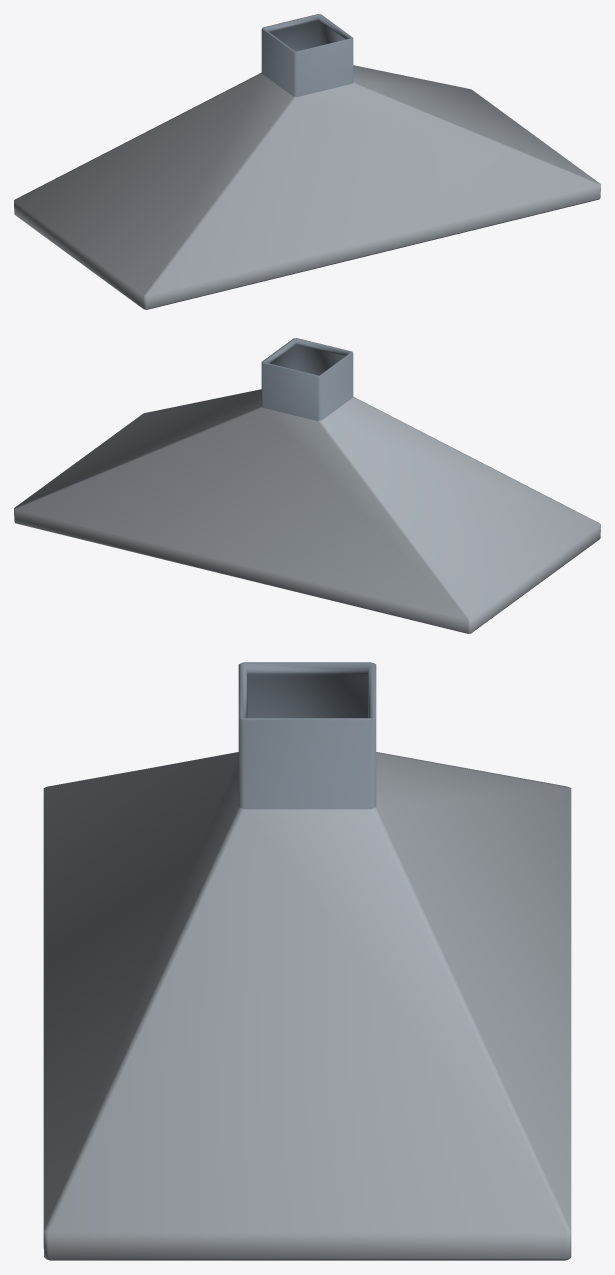
Rendered from PaddleBox-2.fbx.
3 views of the same model, one above another, from view 1: azimuth 30°, elevation 25°; view 2: azimuth 150°, elevation 25°; view 3: azimuth 270°, elevation 25° (orthographic). The views are drawn at different scales.
Parts seen in each view (by area): view 1: Paddle-Box-2; view 2: Paddle-Box-2; view 3: Paddle-Box-2.
Part boxes in pixels (x1=…): Paddle-Box-2: x1=14, y1=14, x2=600, y2=309; Paddle-Box-2: x1=14, y1=338, x2=600, y2=633; Paddle-Box-2: x1=43, y1=662, x2=571, y2=1260.
Bounding box in the file's own units: 2 × 0.7272 × 0.9996.
